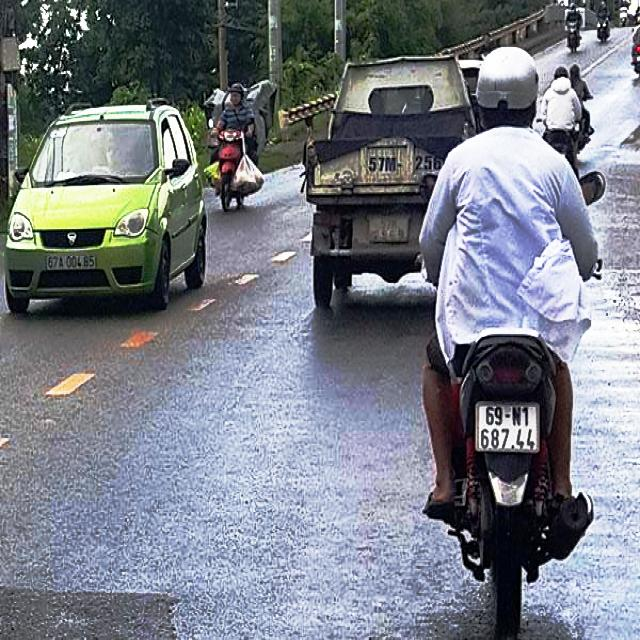license_plate: (475, 400, 542, 453), (47, 253, 97, 273)
